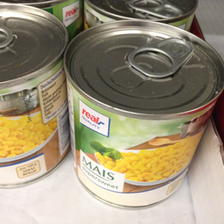corn: (62, 20, 224, 210), (1, 3, 68, 189)
